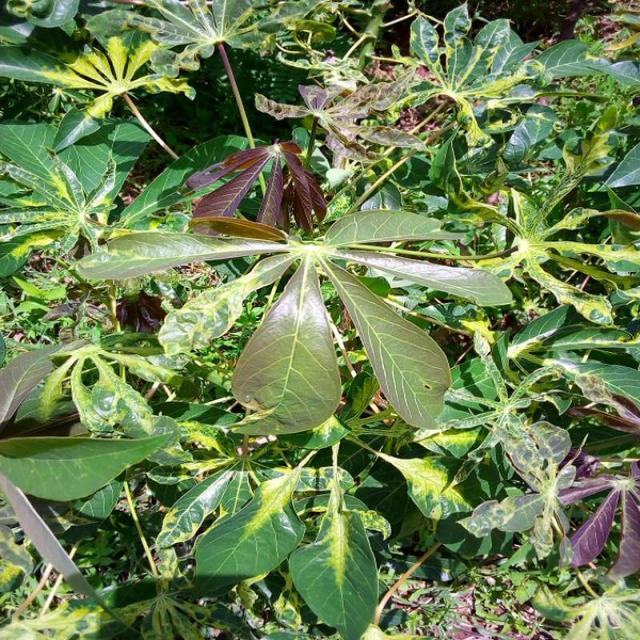cassava leaf: (74, 140, 514, 437), (321, 256, 452, 430), (228, 253, 342, 436), (288, 507, 379, 638)
